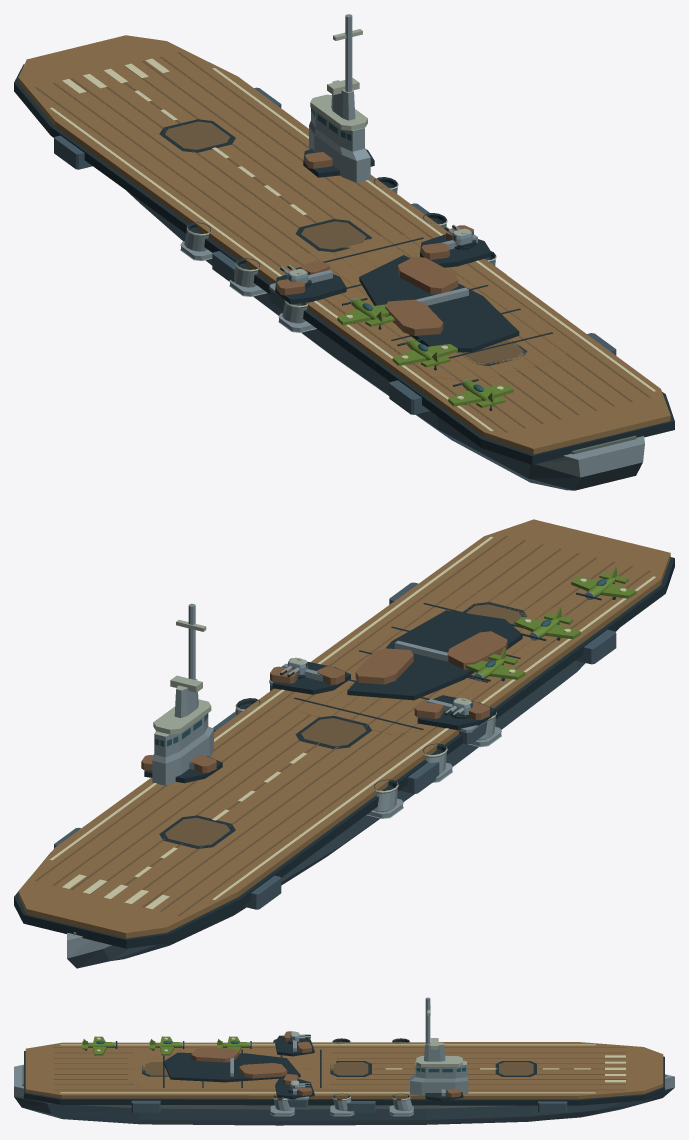
Rendered from historic-ranger.glb.
The picture shows the model from 3 angles, top to bottom: view 1: azimuth 30°, elevation 25°; view 2: azimuth 150°, elevation 25°; view 3: azimuth 270°, elevation 25°; orthographic projection. The views are drawn at different scales.
Visible parts, largest first — view 1: historic-ranger-historic-ranger-geometry, historic-ranger-part_flight-deck.012-geometry, historic-ranger-ruin_flight-deck.011-geometry, historic-ranger-part_bridge.052-geometry, historic-ranger-ruin_aa-port.053-geometry, historic-ranger-aircraft_lift_0.012-geometry, historic-ranger-aircraft_lift_1.012-geometry, historic-ranger-ruin_aa-starboard.051-geometry, historic-ranger-parked_aircraft_1.012-geometry, historic-ranger-parked_aircraft_0.012-geometry, historic-ranger-parked_aircraft_2.012-geometry, historic-ranger-aircraft_lift_2.009-geometry (+4 smaller); view 2: historic-ranger-historic-ranger-geometry, historic-ranger-part_flight-deck.012-geometry, historic-ranger-ruin_flight-deck.011-geometry, historic-ranger-part_bridge.052-geometry, historic-ranger-ruin_aa-starboard.051-geometry, historic-ranger-aircraft_lift_0.012-geometry, historic-ranger-aircraft_lift_1.012-geometry, historic-ranger-ruin_aa-port.053-geometry, historic-ranger-parked_aircraft_1.012-geometry, historic-ranger-parked_aircraft_0.012-geometry, historic-ranger-parked_aircraft_2.012-geometry, historic-ranger-ruin_bridge.051-geometry (+2 smaller); view 3: historic-ranger-historic-ranger-geometry, historic-ranger-part_flight-deck.012-geometry, historic-ranger-ruin_flight-deck.011-geometry, historic-ranger-part_bridge.052-geometry, historic-ranger-ruin_aa-port.053-geometry, historic-ranger-ruin_aa-starboard.051-geometry, historic-ranger-aircraft_lift_0.012-geometry, historic-ranger-aircraft_lift_1.012-geometry, historic-ranger-historic_funnel_0.053-geometry, historic-ranger-parked_aircraft_1.012-geometry, historic-ranger-parked_aircraft_0.012-geometry, historic-ranger-historic_funnel_1.027-geometry (+5 smaller).
Boxes of the visible parts, x1=… form: historic-ranger-historic-ranger-geometry: x1=14, y1=35, x2=674, y2=490; historic-ranger-part_flight-deck.012-geometry: x1=293, y1=233, x2=573, y2=380; historic-ranger-ruin_flight-deck.011-geometry: x1=359, y1=255, x2=519, y2=352; historic-ranger-part_bridge.052-geometry: x1=309, y1=14, x2=370, y2=182; historic-ranger-ruin_aa-port.053-geometry: x1=275, y1=260, x2=346, y2=304; historic-ranger-aircraft_lift_0.012-geometry: x1=159, y1=119, x2=235, y2=152; historic-ranger-aircraft_lift_1.012-geometry: x1=295, y1=219, x2=371, y2=252; historic-ranger-ruin_aa-starboard.051-geometry: x1=420, y1=225, x2=491, y2=267; historic-ranger-parked_aircraft_1.012-geometry: x1=392, y1=338, x2=457, y2=370; historic-ranger-parked_aircraft_0.012-geometry: x1=448, y1=379, x2=513, y2=410; historic-ranger-parked_aircraft_2.012-geometry: x1=337, y1=298, x2=394, y2=329; historic-ranger-aircraft_lift_2.009-geometry: x1=458, y1=339, x2=527, y2=365; historic-ranger-historic-ranger-geometry: x1=14, y1=519, x2=674, y2=968; historic-ranger-part_flight-deck.012-geometry: x1=290, y1=587, x2=573, y2=734; historic-ranger-ruin_flight-deck.011-geometry: x1=347, y1=610, x2=522, y2=700; historic-ranger-part_bridge.052-geometry: x1=152, y1=603, x2=213, y2=785; historic-ranger-ruin_aa-starboard.051-geometry: x1=270, y1=661, x2=350, y2=694; historic-ranger-aircraft_lift_0.012-geometry: x1=159, y1=815, x2=235, y2=848; historic-ranger-aircraft_lift_1.012-geometry: x1=295, y1=715, x2=371, y2=748; historic-ranger-ruin_aa-port.053-geometry: x1=414, y1=695, x2=495, y2=730; historic-ranger-parked_aircraft_1.012-geometry: x1=515, y1=607, x2=580, y2=640; historic-ranger-parked_aircraft_0.012-geometry: x1=571, y1=566, x2=636, y2=600; historic-ranger-parked_aircraft_2.012-geometry: x1=465, y1=647, x2=525, y2=681; historic-ranger-ruin_bridge.051-geometry: x1=141, y1=754, x2=222, y2=783; historic-ranger-historic-ranger-geometry: x1=14, y1=1042, x2=674, y2=1125; historic-ranger-part_flight-deck.012-geometry: x1=128, y1=1048, x2=336, y2=1089; historic-ranger-ruin_flight-deck.011-geometry: x1=163, y1=1047, x2=300, y2=1082; historic-ranger-part_bridge.052-geometry: x1=410, y1=997, x2=468, y2=1095; historic-ranger-ruin_aa-port.053-geometry: x1=275, y1=1031, x2=314, y2=1056; historic-ranger-ruin_aa-starboard.051-geometry: x1=275, y1=1074, x2=314, y2=1099; historic-ranger-aircraft_lift_0.012-geometry: x1=495, y1=1061, x2=536, y2=1076; historic-ranger-aircraft_lift_1.012-geometry: x1=330, y1=1061, x2=371, y2=1076; historic-ranger-historic_funnel_0.053-geometry: x1=389, y1=1093, x2=413, y2=1116; historic-ranger-parked_aircraft_1.012-geometry: x1=149, y1=1036, x2=184, y2=1055; historic-ranger-parked_aircraft_0.012-geometry: x1=82, y1=1036, x2=117, y2=1055; historic-ranger-historic_funnel_1.027-geometry: x1=330, y1=1093, x2=354, y2=1116.
Bounding box in the file's own units: 1.34 × 1.38 × 5.89.
